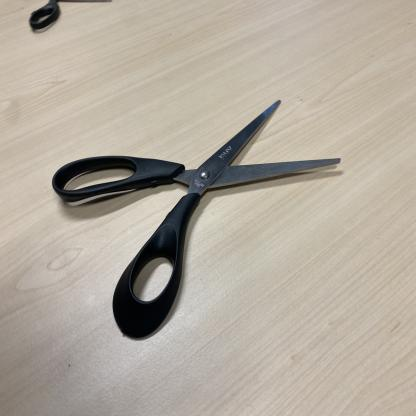scissors: (54, 98, 338, 343), (30, 0, 116, 32)
